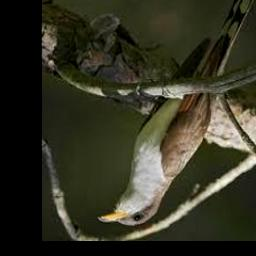Cuckoo: (97, 0, 256, 226)
